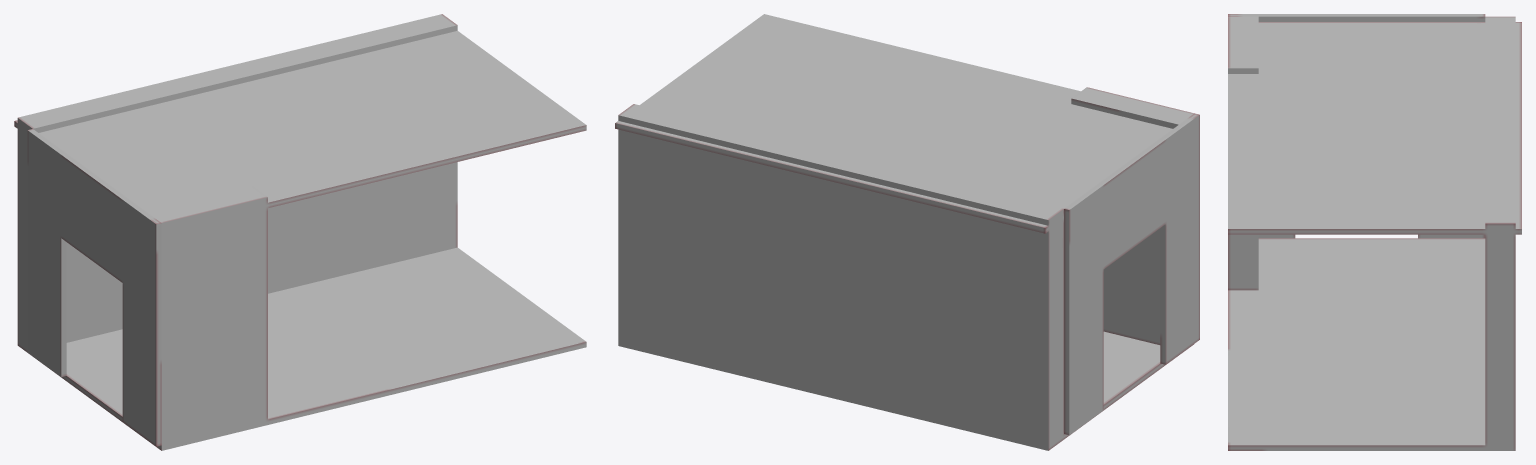
File: StairConnector.fbx
3 renders of one model, left to right at view 1: azimuth 30°, elevation 25°; view 2: azimuth 150°, elevation 25°; view 3: azimuth 270°, elevation 25°, orthographic.
Parts seen in each view (by area): view 1: StairConnector.001; view 2: StairConnector.001; view 3: StairConnector.001.
Boxes of the visible parts, bbox=[...] form: StairConnector.001: bbox=[14, 14, 586, 450]; StairConnector.001: bbox=[615, 14, 1199, 450]; StairConnector.001: bbox=[1228, 14, 1521, 450].
Size of the model in its own units: 8.1 by 4.1 by 4.8.
1 material, 1 textured.
